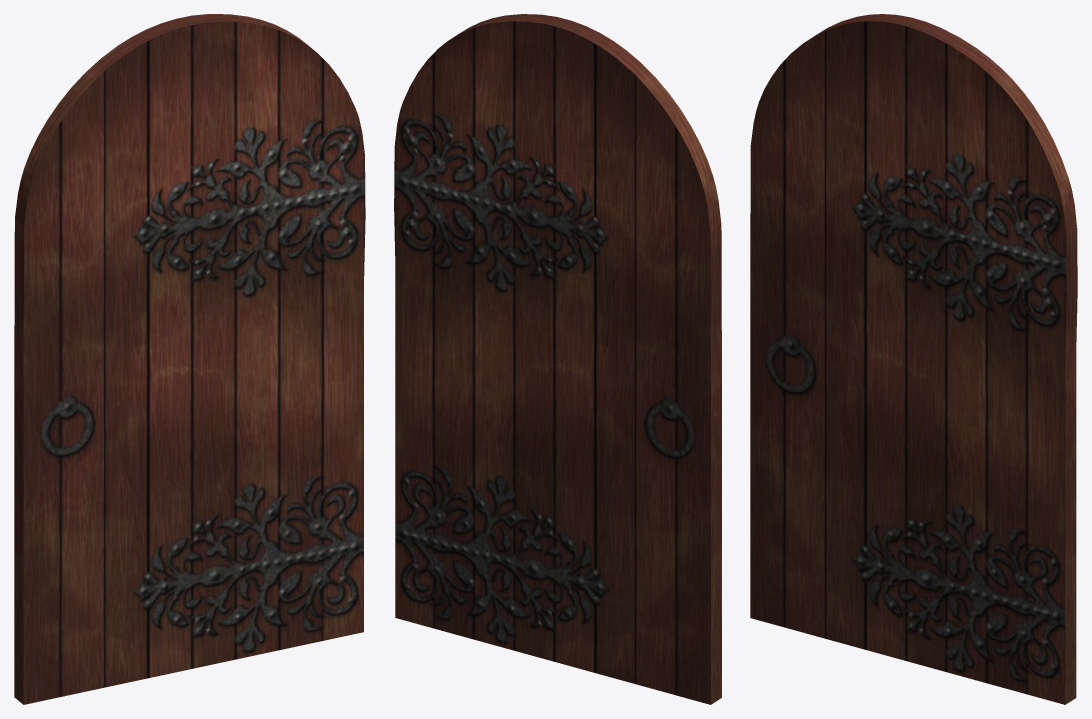
The model's file is door 3.obj.
The picture shows the model from 3 angles, left to right: view 1: azimuth 30°, elevation 25°; view 2: azimuth 150°, elevation 25°; view 3: azimuth 330°, elevation 25°; orthographic projection.
Parts seen in each view (by area): view 1: door_10:Mesh; view 2: door_10:Mesh; view 3: door_10:Mesh.
Boxes of the visible parts, left/top/right/bottom form: door_10:Mesh: left=14, top=14, right=365, bottom=704; door_10:Mesh: left=394, top=14, right=721, bottom=704; door_10:Mesh: left=750, top=14, right=1077, bottom=704.
Bounding box in the file's own units: 64.74 × 120 × 6.99.
1 material, 1 textured.
